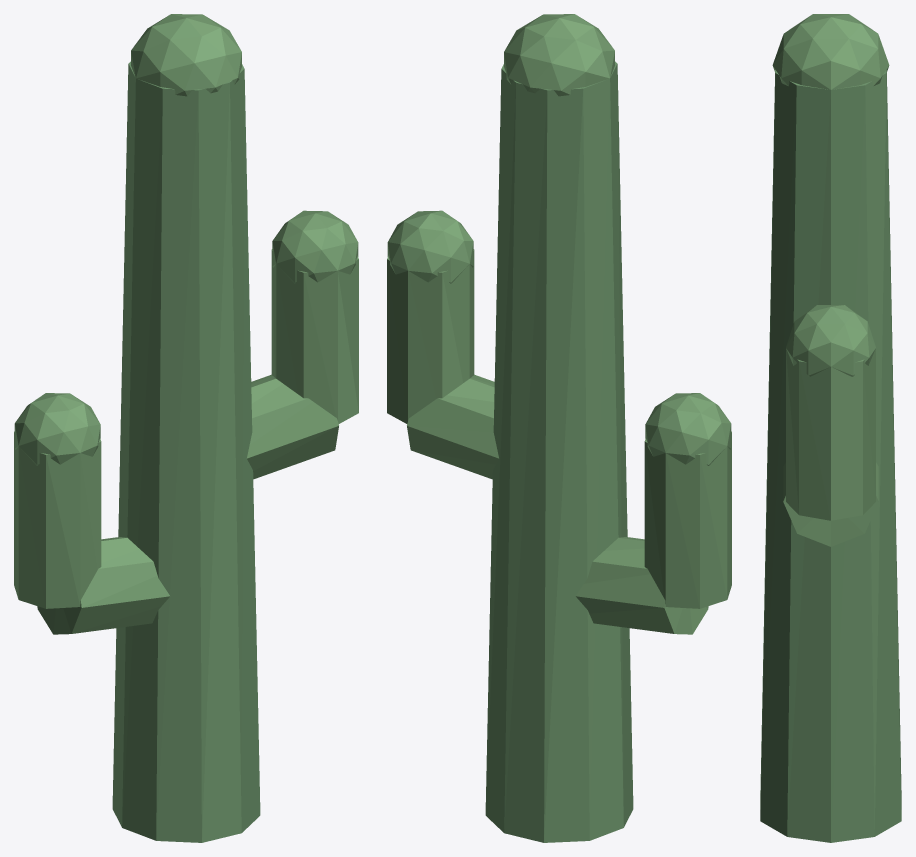
File: cactus_tall.glb
3 views of the same model, side by side, from view 1: azimuth 30°, elevation 25°; view 2: azimuth 150°, elevation 25°; view 3: azimuth 270°, elevation 25° (orthographic).
Parts seen in each view (by area): view 1: cactus_trunk, cactus_arm_v0, cactus_arm_v1, cactus_top, cactus_arm_h0, cactus_arm_h1, cactus_cap0, cactus_cap1; view 2: cactus_trunk, cactus_arm_v0, cactus_arm_v1, cactus_top, cactus_arm_h0, cactus_arm_h1, cactus_cap0, cactus_cap1; view 3: cactus_trunk, cactus_arm_v1, cactus_top, cactus_cap1, cactus_arm_h1.
Part boxes in pixels (box(x1,y1,x2,y2)): cactus_trunk: box(112, 61, 260, 842); cactus_arm_v0: box(14, 431, 101, 608); cactus_arm_v1: box(271, 249, 358, 423); cactus_top: box(131, 14, 241, 96); cactus_arm_h0: box(37, 537, 170, 634); cactus_arm_h1: box(247, 374, 338, 479); cactus_cap0: box(14, 393, 100, 465); cactus_cap1: box(272, 210, 358, 283); cactus_trunk: box(485, 61, 633, 842); cactus_arm_v0: box(644, 431, 731, 608); cactus_arm_v1: box(387, 249, 474, 423); cactus_top: box(504, 14, 614, 96); cactus_arm_h0: box(575, 537, 708, 634); cactus_arm_h1: box(407, 374, 498, 479); cactus_cap0: box(645, 393, 731, 465); cactus_cap1: box(387, 210, 473, 283); cactus_trunk: box(760, 70, 901, 842); cactus_arm_v1: box(786, 348, 875, 520); cactus_top: box(772, 14, 889, 89); cactus_cap1: box(786, 305, 875, 376); cactus_arm_h1: box(783, 462, 878, 546).
Size of the model in its own units: 0.73 by 1.65 by 0.2663.
